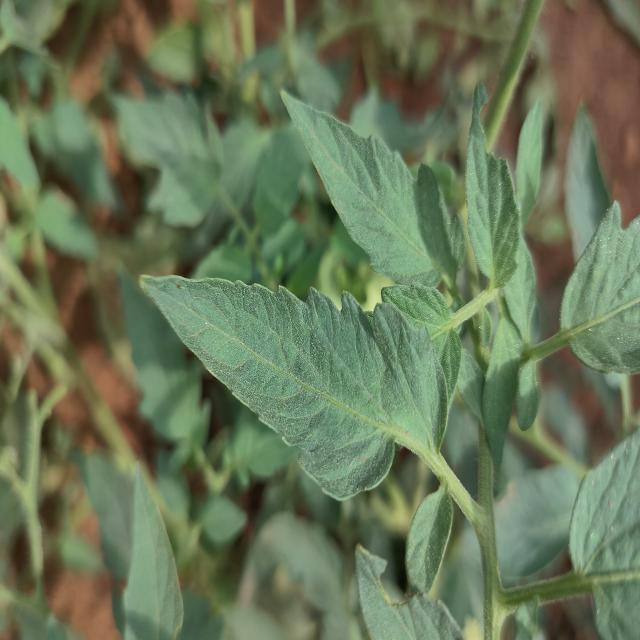tomato_healthy: (139, 268, 453, 507), (278, 84, 474, 308), (466, 74, 525, 291)
